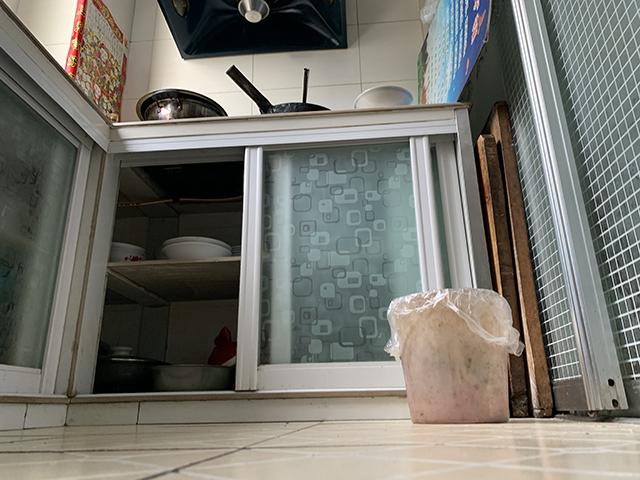cabinet: (76, 103, 477, 432)
trashcan: (382, 285, 525, 424)
